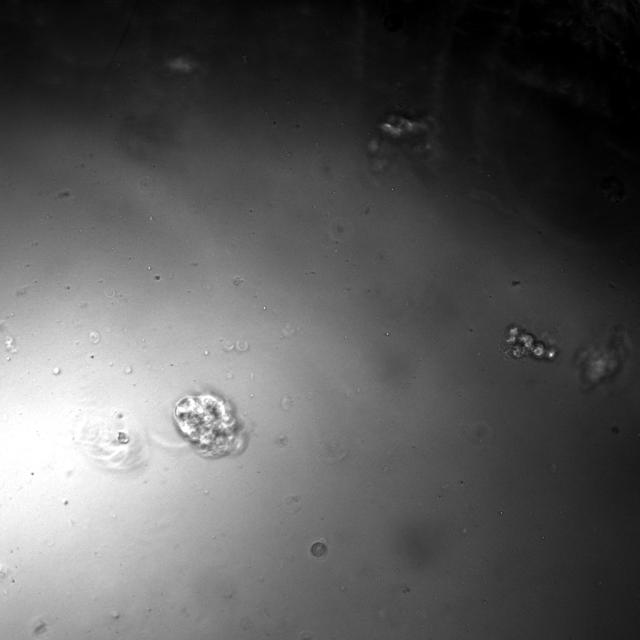organoid: (174, 394, 241, 457), (366, 110, 434, 171), (574, 326, 630, 389), (501, 324, 557, 359)
